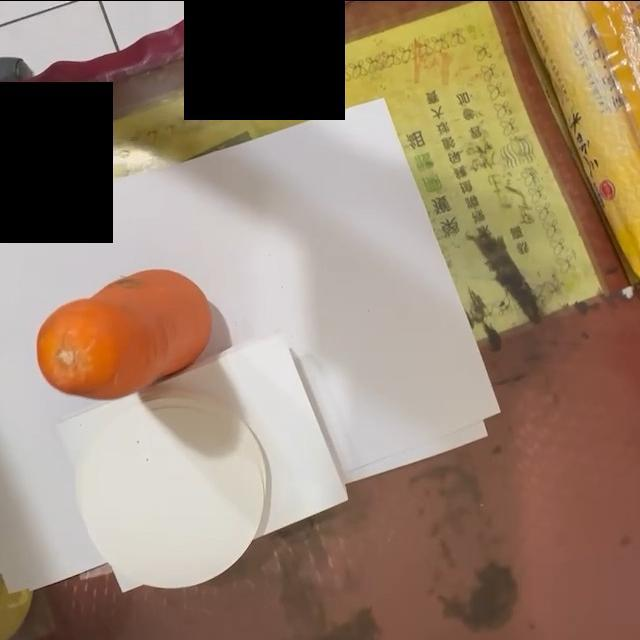carrot: (35, 266, 213, 403)
